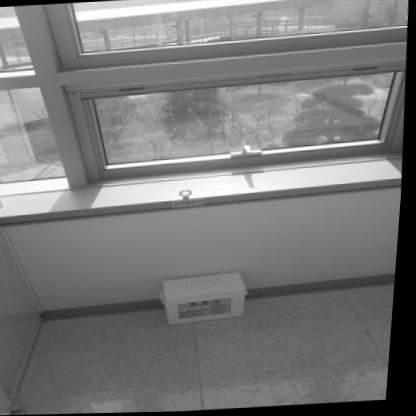DDL: (161, 272, 256, 327)
